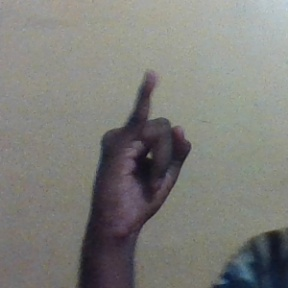I: (91, 65, 191, 237)
